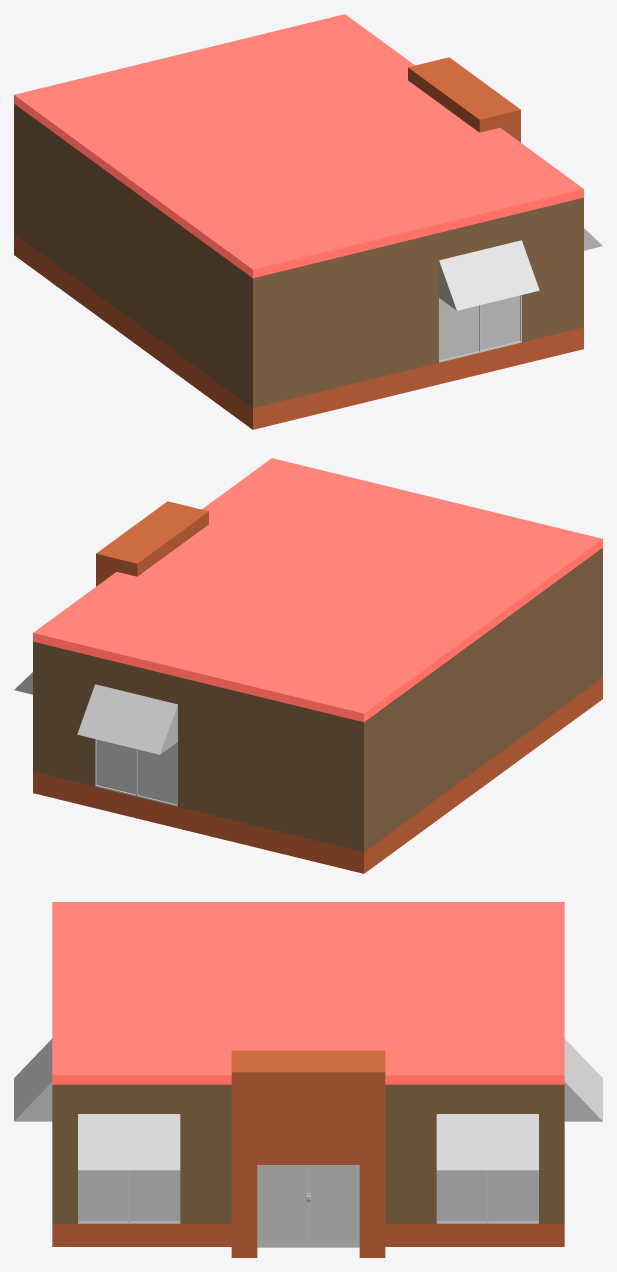
The model's file is FastFood.fbx.
The picture shows the model from 3 angles, top to bottom: view 1: azimuth 30°, elevation 25°; view 2: azimuth 150°, elevation 25°; view 3: azimuth 270°, elevation 25°; orthographic projection. The views are drawn at different scales.
Visible parts, largest first — view 1: Awning.002; view 2: Awning.002; view 3: Awning.002.
Boxes of the visible parts, x1=… form: Awning.002: x1=14, y1=14, x2=602, y2=429; Awning.002: x1=14, y1=458, x2=602, y2=873; Awning.002: x1=14, y1=902, x2=602, y2=1257.
Size of the model in its own units: 875 by 1150 by 400.
